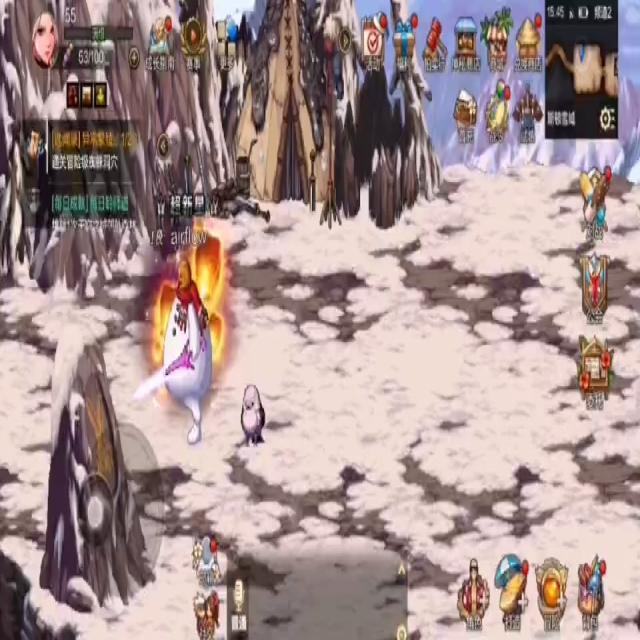player: (158, 247, 212, 446)
